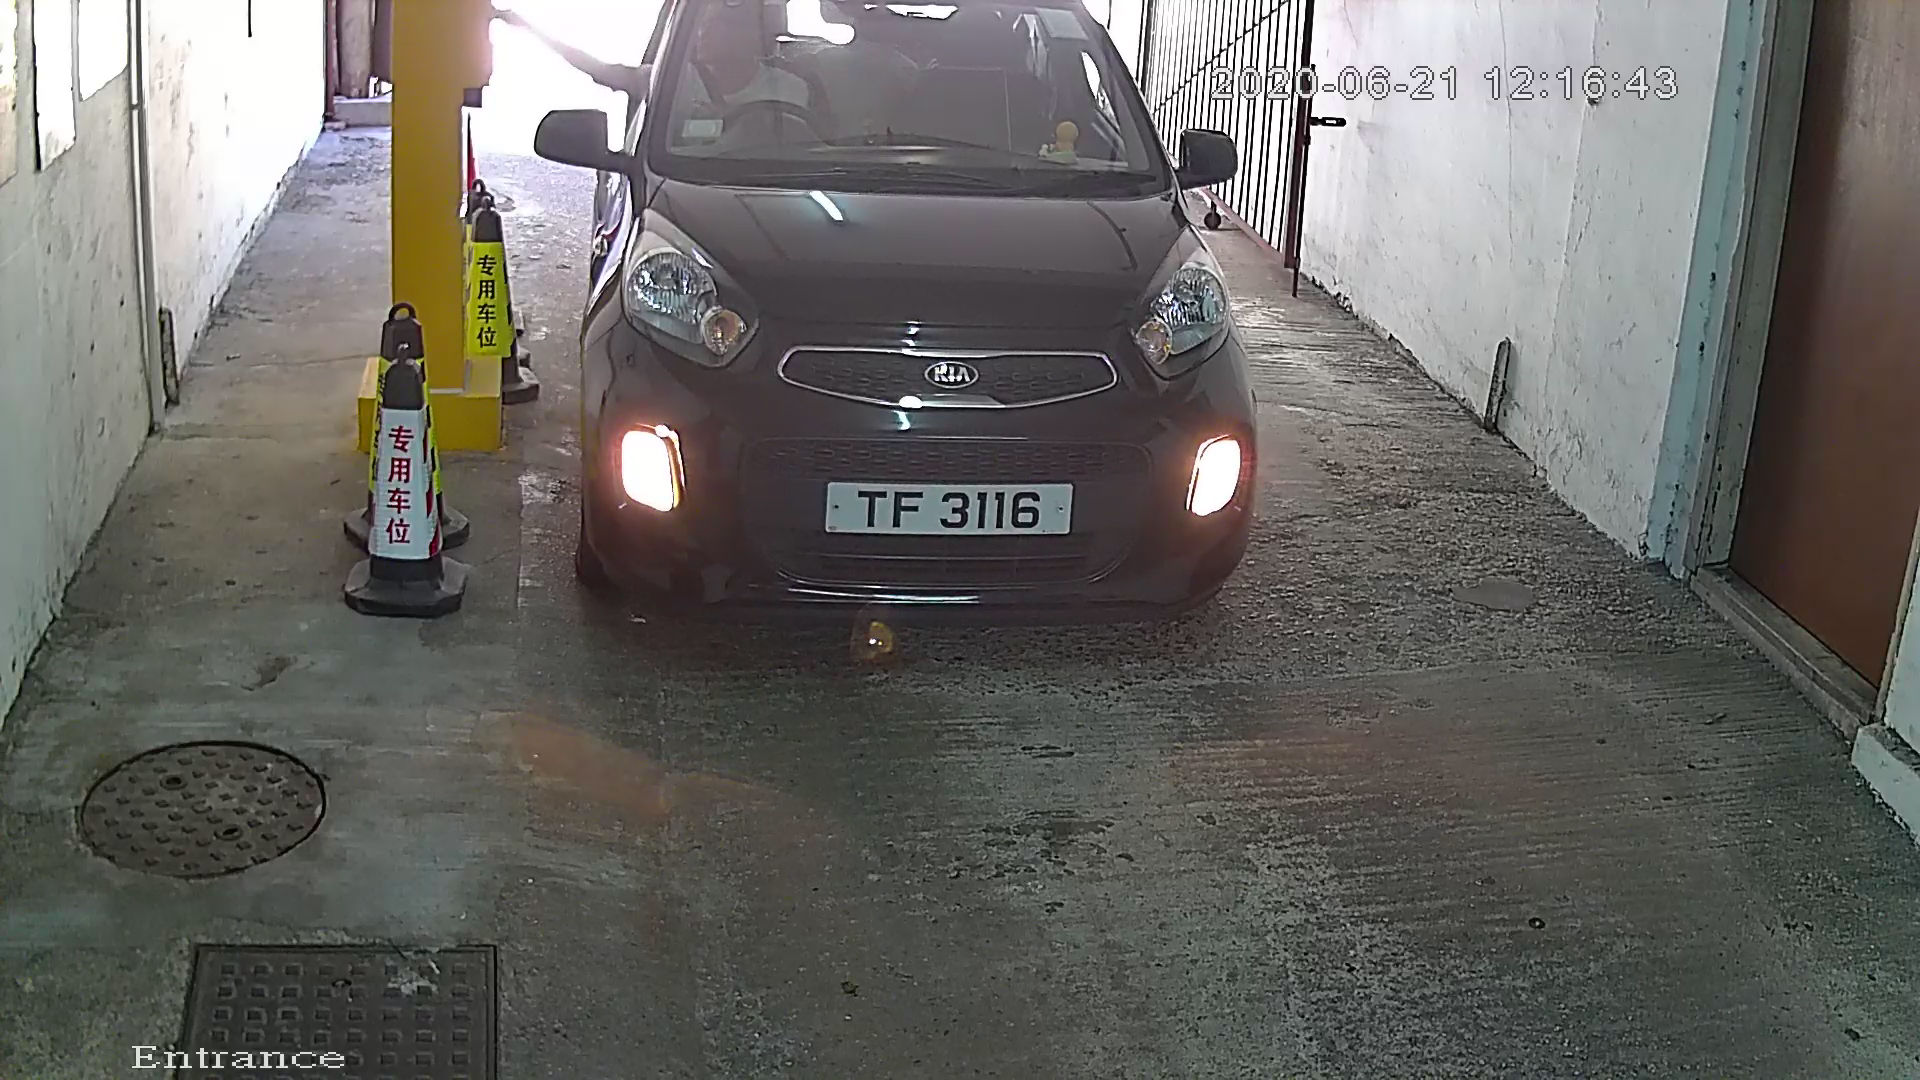privatecar: (524, 3, 1298, 676)
